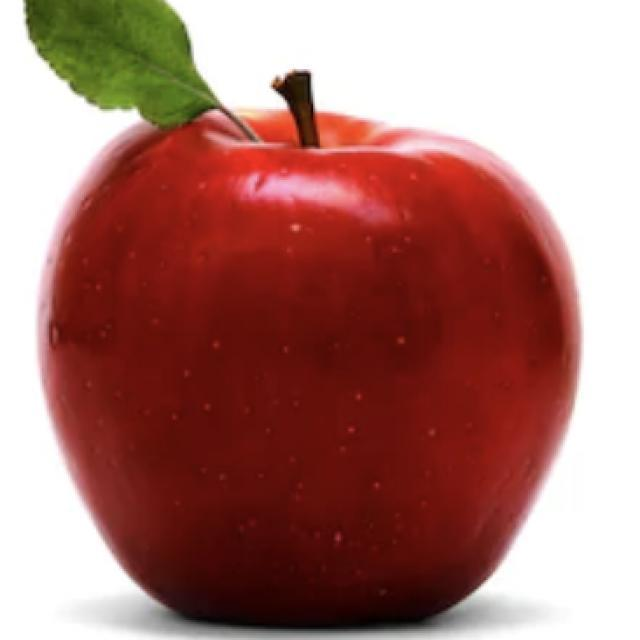Fresh Apple: (50, 81, 575, 640)
